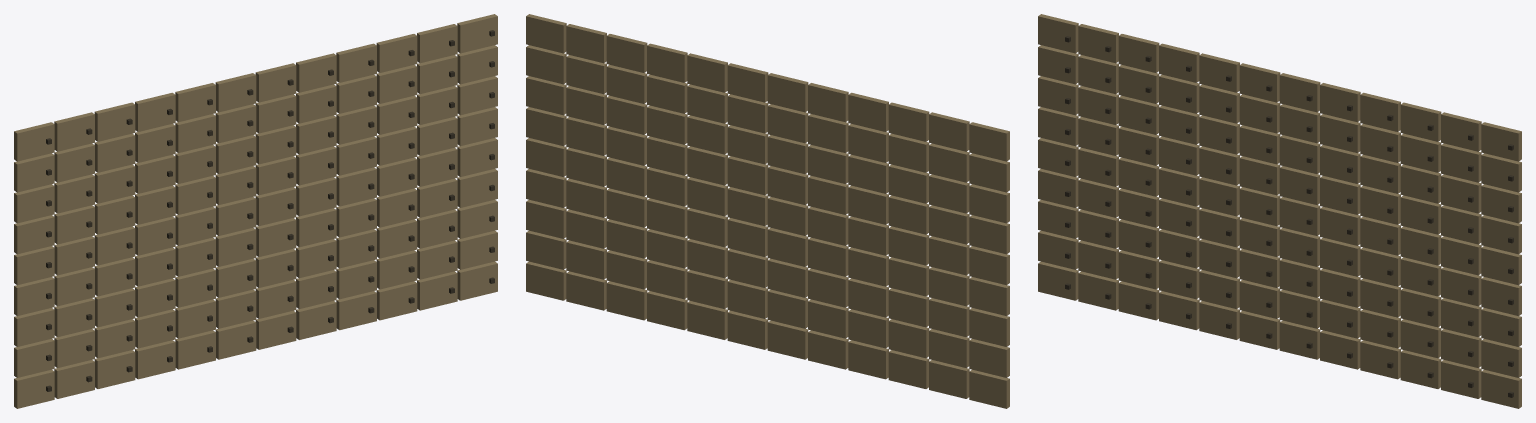
The model's file is safe-deposit-wall.glb.
The picture shows the model from 3 angles, left to right: view 1: azimuth 30°, elevation 25°; view 2: azimuth 150°, elevation 25°; view 3: azimuth 330°, elevation 25°; orthographic projection.
Visible parts, largest first — view 1: safe-deposit-wall; view 2: safe-deposit-wall; view 3: safe-deposit-wall.
Boxes of the visible parts, x1,y1,x2,y2 form: safe-deposit-wall: [14, 14, 497, 408]; safe-deposit-wall: [526, 14, 1009, 408]; safe-deposit-wall: [1038, 14, 1521, 408].
Size of the model in its own units: 3.58 by 1.96 by 0.065.
